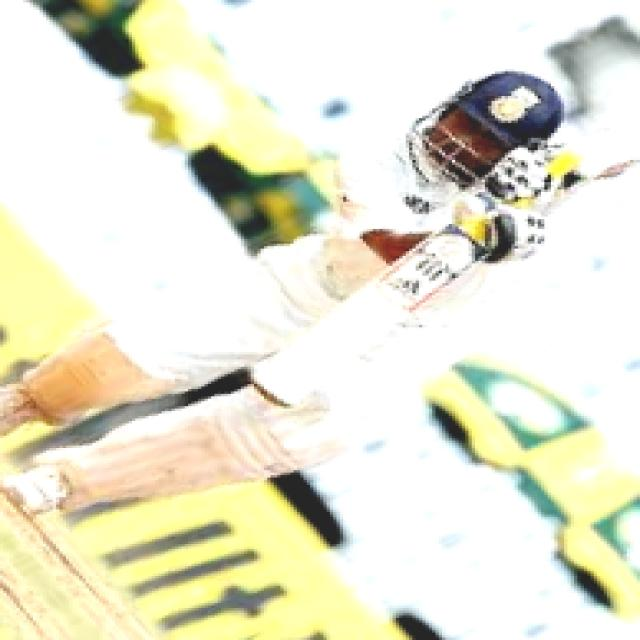toe: (242, 345, 333, 417)
